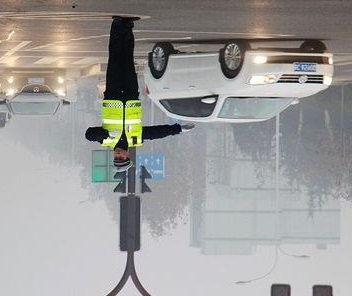person: (84, 15, 196, 174)
